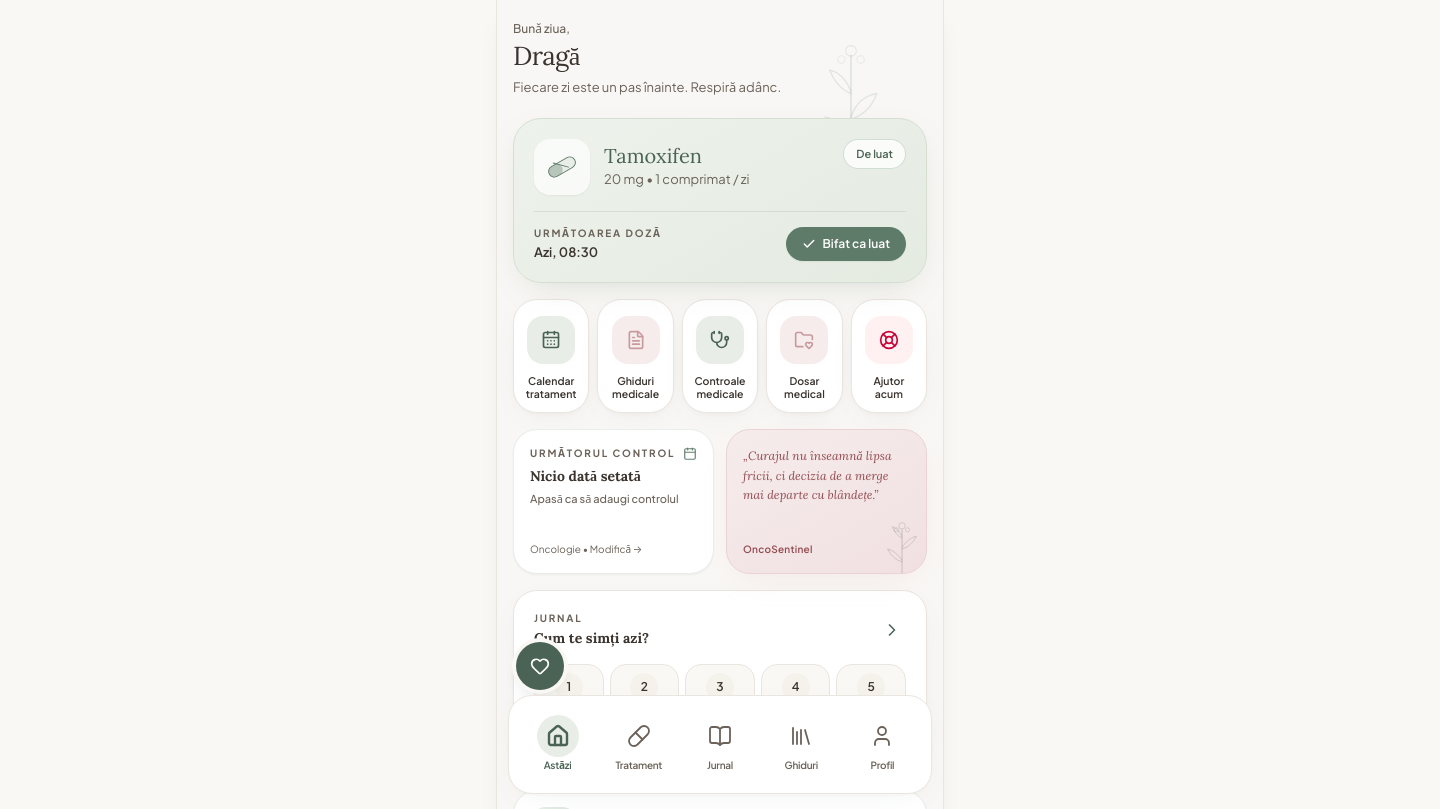
Test case: Am nevoie de liniște acum › mesaj cald → respirație → „Te simți puțin mai liniștită?” → „Da, puțin”
This screenshot has width=1440, height=809.
Step 1. Click the button named "Am nevoie de liniște acum" → (540,666), box [516,642,564,690]
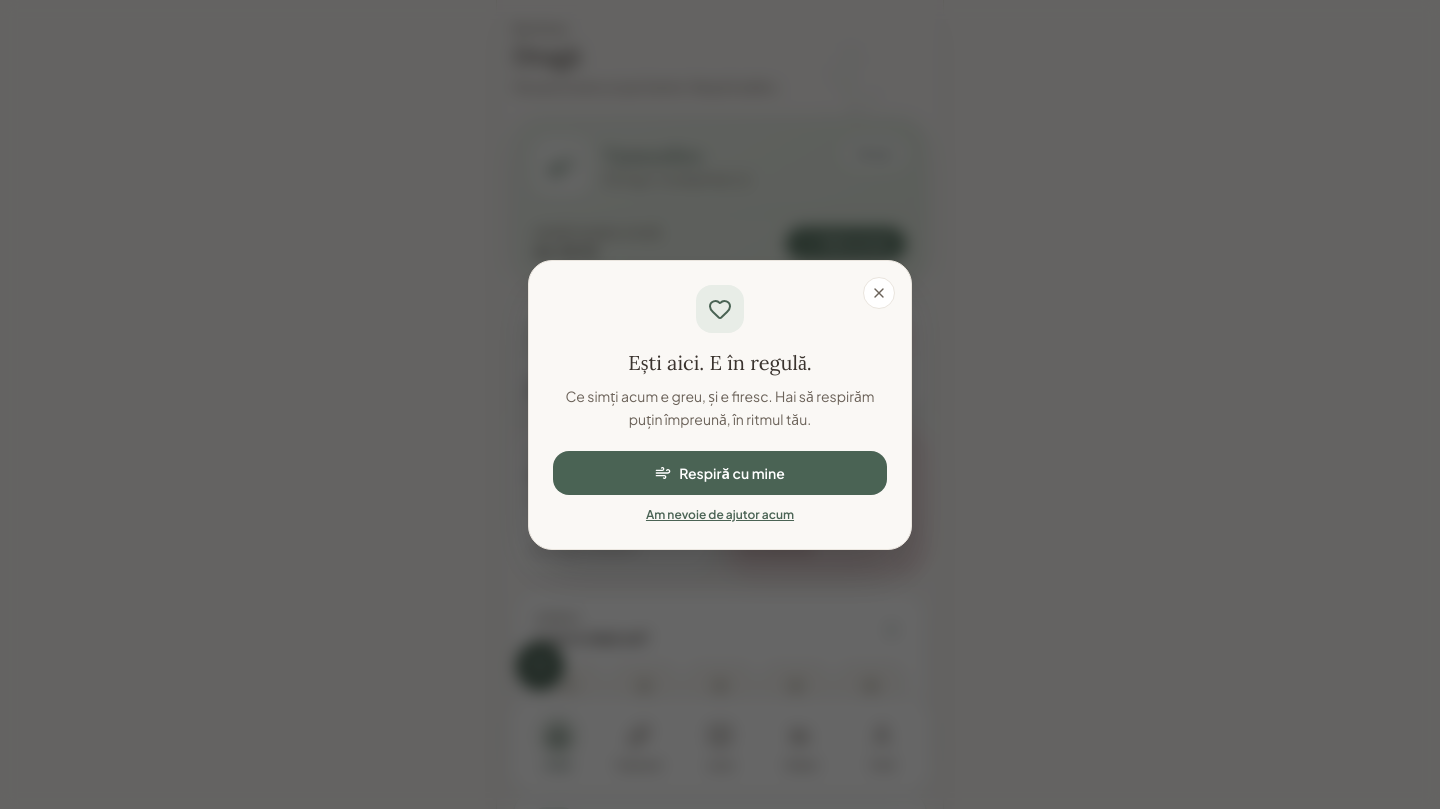
expect the heading "Ești aici. E în regulă." is shown: met, box [628,350,812,375]
Step 2. Click the button "Respiră cu mine" → (720,473), box [553,451,887,495]
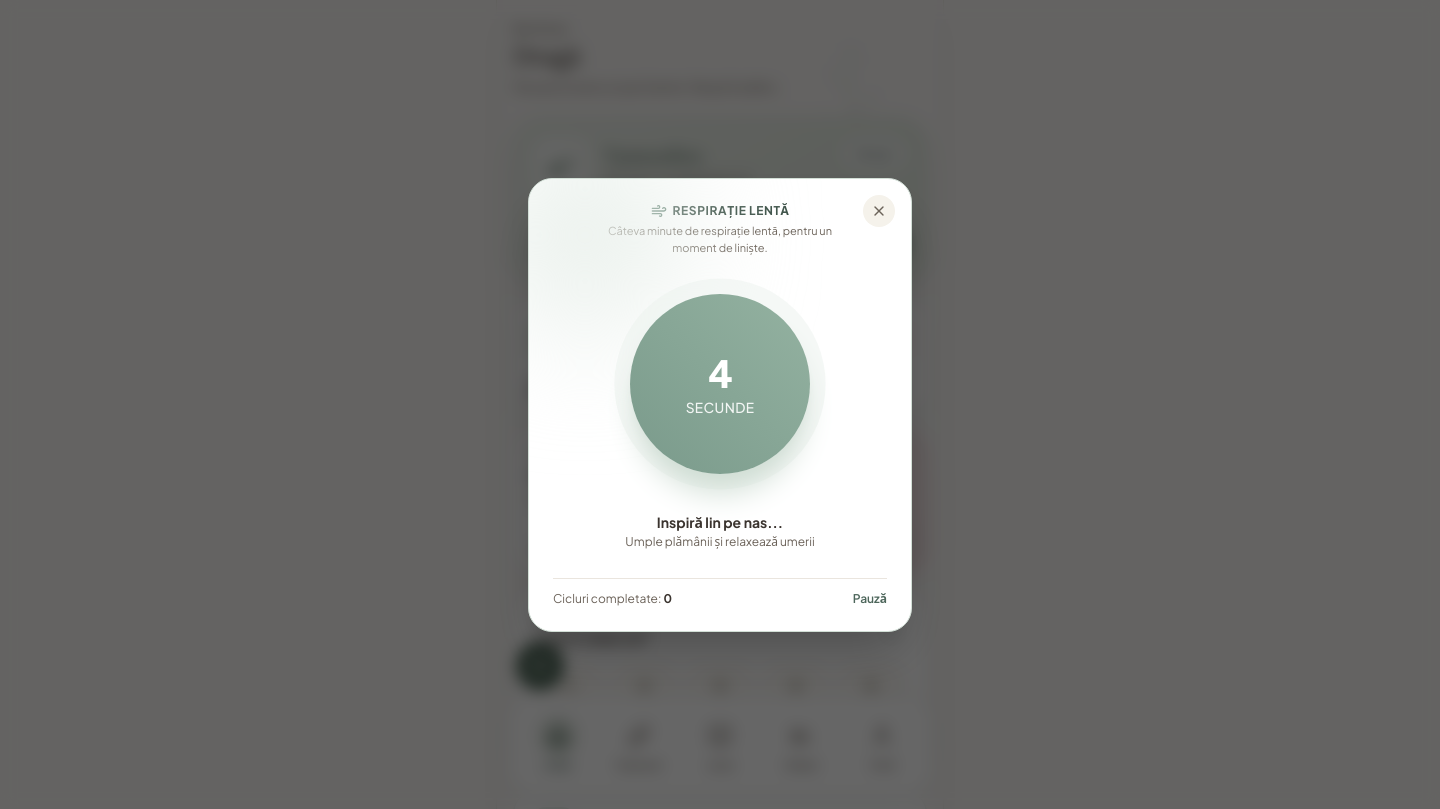
expect the heading "Ești aici. E în regulă." is gone: met
expect the text "Respirație lentă" is shown: met, box [672,203,790,219]
Step 3. Click the button named "Închide" → (879,211), box [863,195,895,227]
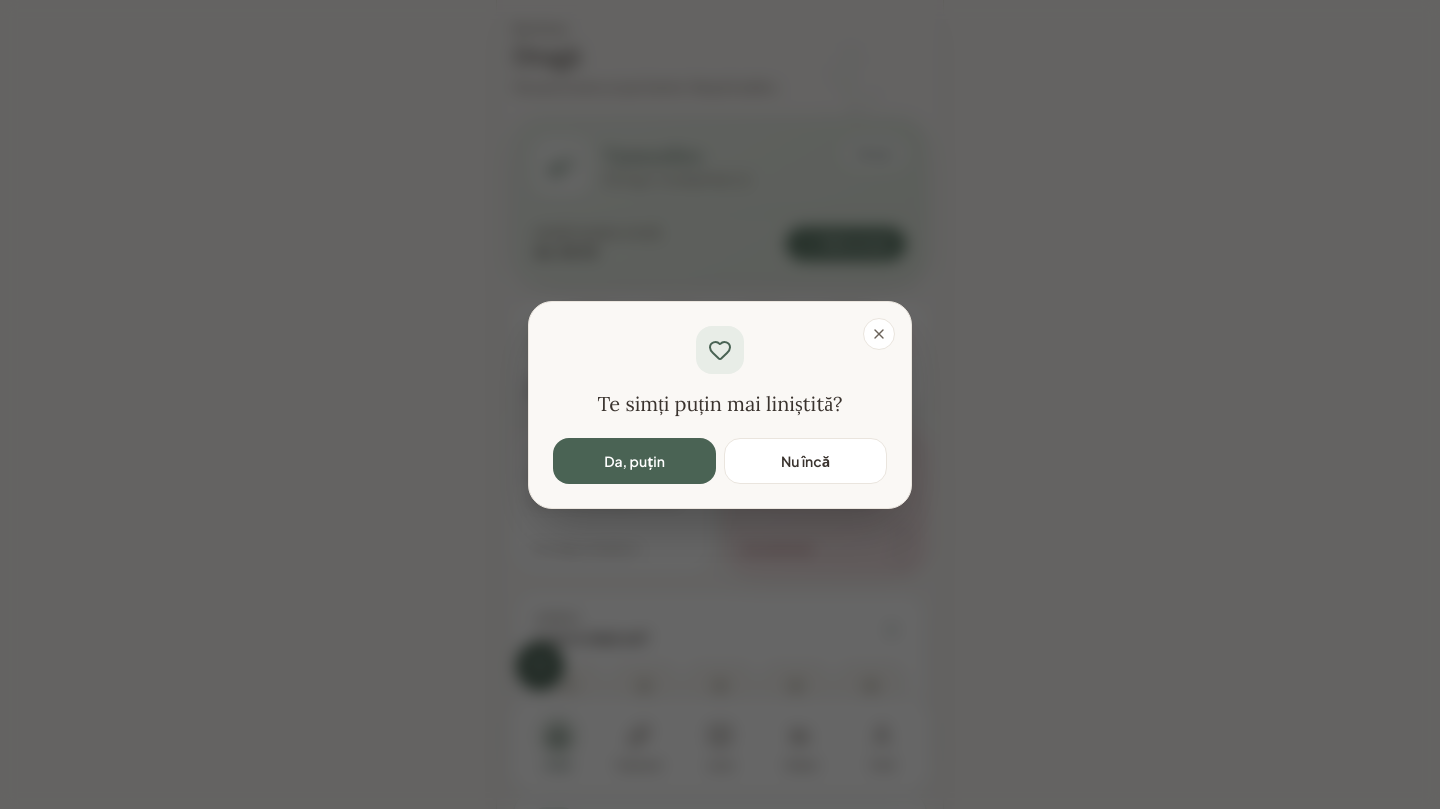
expect the heading "Te simți puțin mai liniștită?" is shown: met, box [598,391,842,416]
Step 4. Click the button "Da, puțin" → (634,461), box [553,438,716,484]
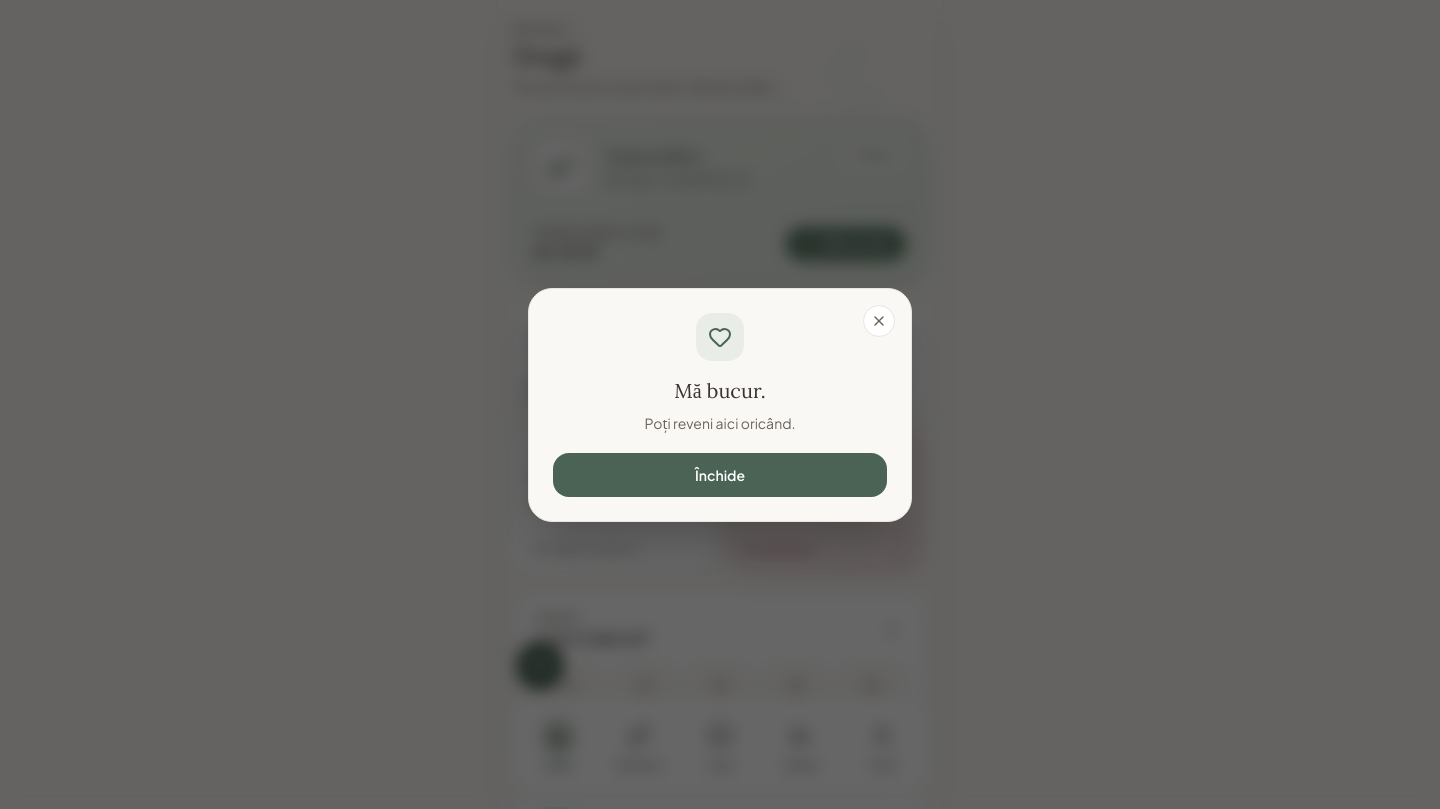
expect the text "Poți reveni aici oricând." is shown: met, box [644,414,796,432]
